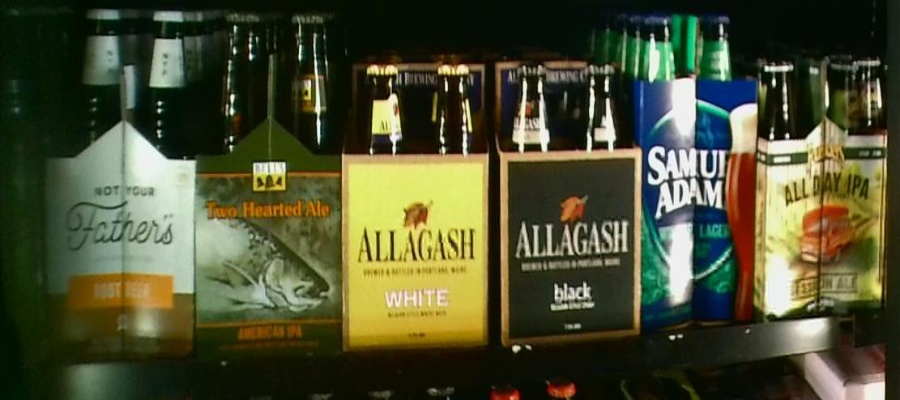bottle: (197, 9, 343, 362), (49, 6, 194, 356), (345, 51, 492, 355), (497, 49, 638, 338), (642, 16, 753, 328), (756, 49, 882, 310)
